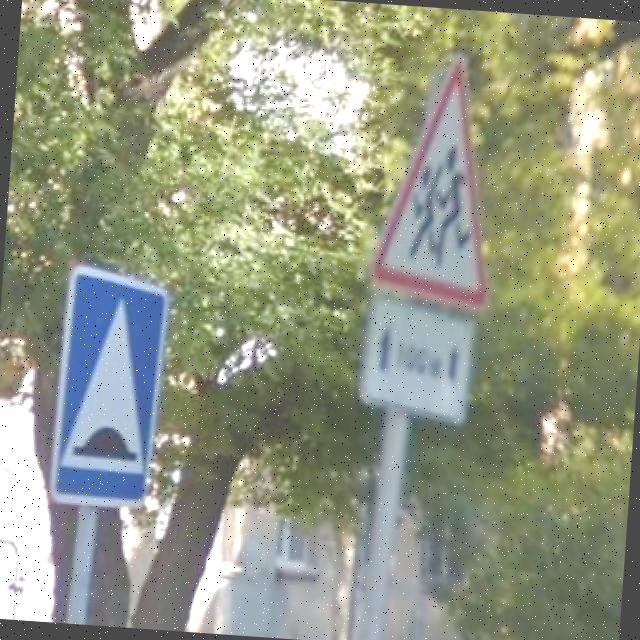Dzieci: (368, 54, 502, 308)
